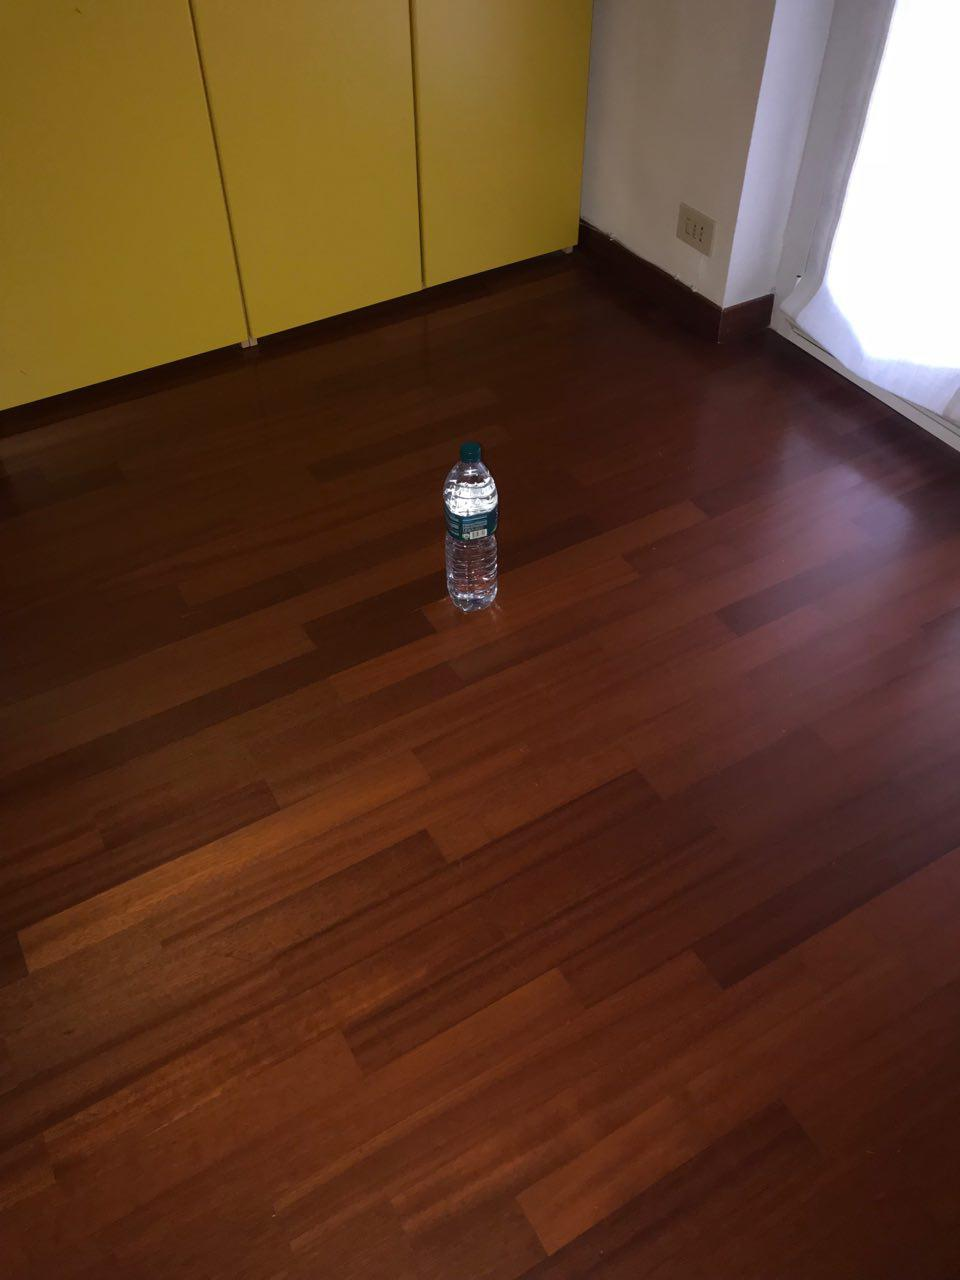san_bernardo: (441, 438, 500, 612)
